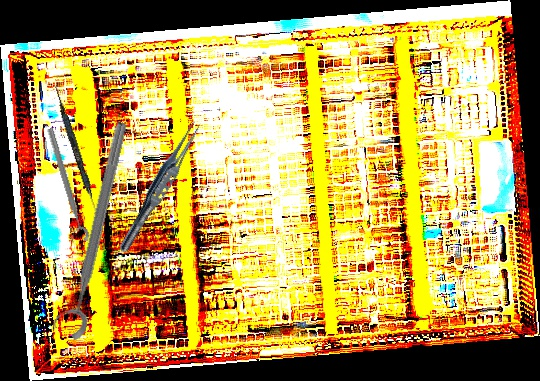Fixation Ring: (48, 117, 134, 342), (37, 126, 91, 246)
Spatula Surgical: (49, 84, 105, 224)
Tissue Forceps: (114, 114, 207, 258)
